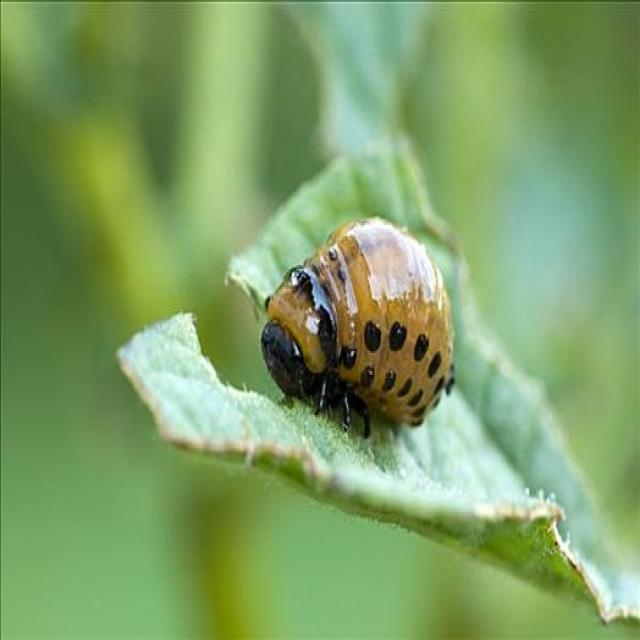ShuCaiHuaBanChong-Larva-: (256, 199, 464, 450)
